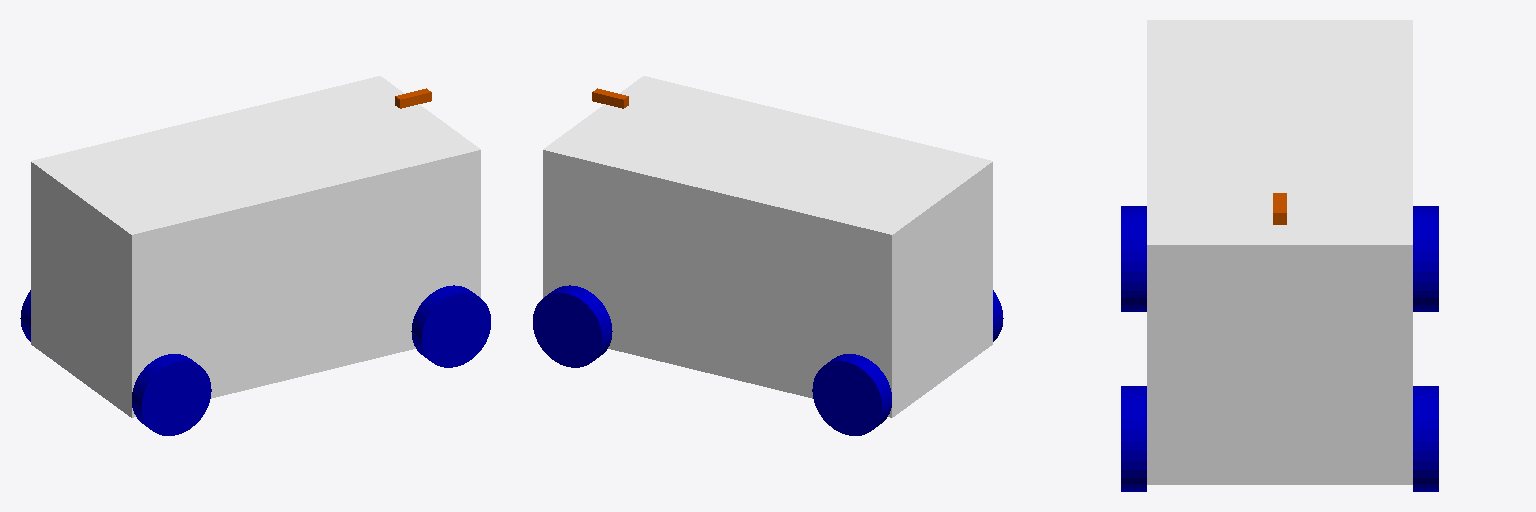
robot.urdf — my_robot:
<?xml version='1.0'?>
<robot name="my_robot">
  <gazebo>
    <static>false</static>
  </gazebo>

<!-- specifying materials and colors of model-->
  <material name="blue">
    <color rgba="0 0 0.8 1"/>
  </material>

  <material name="white">
    <color rgba="1 1 1 1"/>
  </material>

<!-- chassis description-->
	<link name='base_link'>
      <collision name='collision'>
        <geometry>
          <box size="1 .5 .5"/>
        </geometry>
        <origin xyz="0 0 .3" rpy="0 0 0"/>
      </collision>

      <visual name='visual'>
        <geometry>
          <box size="1 .5 .5"/>
        </geometry>
        <origin xyz="0 0 .3" rpy="0 0 0"/>
        <material name="white"/>
      </visual>
  </link>

    <!-- front right wheel description-->
  <link name="fr_wheel">
    
    <collision name="collision">
      <geometry>
        <cylinder radius=".1" length=".05"/>
      </geometry>
      <origin xyz="0 0 0" rpy="0 1.5707 1.5707"/>
    </collision>
    <visual name="visual">
      <geometry>
        <cylinder radius=".1" length=".05"/>
      </geometry>
      <origin xyz="0 0 0" rpy="0 1.5707 1.5707"/>
      <material name="blue"/>
    </visual>
    <!-- replace inertial values later-->
    <inertial>
      <mass value="3"/>
      <inertia ixx="0.4" ixy="0.0" ixz="0.0" iyy="0.4" iyz="0.0" izz="0.2"/>
    </inertial>
  </link>
  <joint type="continuous" name="fr_wheel_hinge">
    <origin xyz=".4 .275 .1" rpy="0 0 0"/>
    <child link="fr_wheel"/>
    <parent link="base_link"/>
    <axis xyz="0 1 0"/>
	</joint>

  <!-- descripton for the front left wheel-->
  <link name="fl_wheel">
    
    <collision name="collision">
      <geometry>
        <cylinder radius=".1" length=".05"/>
      </geometry>
      <origin xyz="0 0 0" rpy="0 1.5707 1.5707"/>
    </collision>
    <visual name="visual">
      <geometry>
        <cylinder radius=".1" length=".05"/>
      </geometry>
      <origin xyz="0 0 0" rpy="0 1.5707 1.5707"/>
      <material name="blue"/>
    </visual>
    <!-- replace inertial values later-->
    <inertial>
      <mass value="3"/>
      <inertia ixx="0.4" ixy="0.0" ixz="0.0" iyy="0.4" iyz="0.0" izz="0.2"/>
    </inertial>
  </link>

  <joint type="continuous" name="fl_wheel_hinge">
      <origin xyz="0.4 -.275 .1" rpy="0 0 0"/>
      <child link="fl_wheel"/>
      <parent link="base_link"/>
      <axis xyz="0 1 0"/>
	</joint>

  <!--back right wheel description-->
  <link name="br_wheel">
    <collision name="collision">
      <geometry>
        <cylinder radius=".1" length=".05"/>
      </geometry>
      <origin xyz="0 0 0" rpy="0 1.5707 1.5707"/>
    </collision>
    <visual name="visual">
      <geometry>
        <cylinder radius=".1" length=".05"/>
      </geometry>
      <origin xyz="0 0 0" rpy="0 1.5707 1.5707"/>
      <material name="blue"/>
    </visual>
    <!-- replace inertial values later-->
    <inertial>
      <mass value="3"/>
      <inertia ixx="0.4" ixy="0.0" ixz="0.0" iyy="0.4" iyz="0.0" izz="0.2"/>
    </inertial>
  </link>
  <joint type="continuous" name="br_wheel_hinge">
    <origin xyz="-0.4 .275 .1" rpy="0 0 0"/>
    <child link="br_wheel"/>
    <parent link="base_link"/>
    <axis xyz="0 1 0"/>
	</joint>

  <!-- back left wheel description-->
  <link name="bl_wheel">
    <collision name="collision">
      <geometry>
        <cylinder radius=".1" length=".05"/>
      </geometry>
      <origin xyz="0 0 0" rpy="0 1.5707 1.5707"/>
    </collision>
    <visual name="visual">
      <geometry>
        <cylinder radius=".1" length=".05"/>
      </geometry>
      <origin xyz="0 0 0" rpy="0 1.5707 1.5707"/>
      <material name="blue"/>
    </visual>
     <!-- replace inertial values later-->
    <inertial>
      <mass value="3"/>
      <inertia ixx="0.4" ixy="0.0" ixz="0.0" iyy="0.4" iyz="0.0" izz="0.2"/>
    </inertial>
  </link>
  <joint type="continuous" name="bl_wheel_hinge">
      <origin xyz="-.4 -.275 .1" rpy="0 0 0"/>
      <child link="bl_wheel"/>
      <parent link="base_link"/>
      <axis xyz="0 1 0"/>
	</joint>


  <!--specifying the depth camera-->
  <link name="depth_camera_link">
    <collision>
      <origin xyz="0 0 0" rpy="0 0 0"/>
      <geometry>
        <box size=".09 .025 .025"/>
      </geometry>
    </collision>

    <visual>
      <origin xyz="0 0 0" rpy="0 0 0"/>
      <geometry>
        <box size=".09 .025 .025"/>
      </geometry>
    </visual>

    <inertial>
      <mass value=".01" />
      <inertia ixx=".001" ixy="0" ixz="0" iyy=".001" iyz="0" izz=".001" />
    </inertial>
  </link>

  <joint name="dc_joint" type="fixed">
    <axis xyz="0 1 0"/>
    <origin xyz=".45 0 .6" rpy="0 0 0"/>
    <parent link="base_link"/>
    <child link="depth_camera_link"/>
  </joint>


        <!--depth camera plugin-->
  <gazebo reference="depth_camera_link">
    <sensor name="depth_camera" type="depth">
      <update_rate>20</update_rate>
      <camera>
        <horizontal_fov>1.047198</horizontal_fov>
        <image>
          <width>640</width>
          <height>480</height>
          <format>R8G8B8</format>
        </image>
        <clip>
          <near>0.05</near>
          <far>3</far>
        </clip>
      </camera>
      <plugin name="depth_controller" filename="libgazebo_ros_openni_kinect.so">
        <baseline>0.2</baseline>
        <alwaysOn>true</alwaysOn>
        <updateRate>1.0</updateRate>
        <cameraName>realsense_ir</cameraName>
        <imageTopicName>/realsense/depth/image_raw</imageTopicName>
        <cameraInfoTopicName>/realsense/depth/camera_info</cameraInfoTopicName>
        <depthImageTopicName>/realsense/depth/image_raw</depthImageTopicName>
        <depthImageInfoTopicName>/realsense/depth/camera_info</depthImageInfoTopicName>
        <pointCloudTopicName>/realsense/depth/points</pointCloudTopicName>
        <frameName>base</frameName>
        <pointCloudCutoff>0.1</pointCloudCutoff>
        <pointCloudCutoffMax>3.0</pointCloudCutoffMax>
        <distortionK1>0.00000001</distortionK1>
        <distortionK2>0.00000001</distortionK2>
        <distortionK3>0.00000001</distortionK3>
        <distortionT1>0.00000001</distortionT1>
        <distortionT2>0.00000001</distortionT2>
        <CxPrime>0</CxPrime>
        <Cx>0</Cx>
        <Cy>0</Cy>
        <focalLength>0</focalLength>
        <hackBaseline>0</hackBaseline>
      </plugin>
    </sensor>
  </gazebo>

</robot>

--- Facts derived from the render (not from the file) ---
3 views of the same robot in one strip: view 1: azimuth 30°, elevation 25°; view 2: azimuth 150°, elevation 25°; view 3: azimuth 270°, elevation 25° (orthographic).
Robot: my_robot — 6 links, 5 joints (4 continuous, 1 fixed); root link base_link; default pose: every joint at zero.
Visible links, largest first — view 1: base_link, bl_wheel, fl_wheel; view 2: base_link, br_wheel, fr_wheel; view 3: base_link, fr_wheel, fl_wheel, br_wheel, bl_wheel.
Boxes of the visible links, left/top/right/bottom form: base_link: left=31, top=76, right=480, bottom=417; bl_wheel: left=132, top=354, right=211, bottom=435; fl_wheel: left=411, top=285, right=490, bottom=367; base_link: left=543, top=76, right=992, bottom=417; br_wheel: left=812, top=354, right=891, bottom=435; fr_wheel: left=533, top=285, right=612, bottom=367; base_link: left=1147, top=20, right=1412, bottom=484; fr_wheel: left=1413, top=386, right=1438, bottom=491; fl_wheel: left=1121, top=386, right=1146, bottom=491; br_wheel: left=1413, top=206, right=1438, bottom=311; bl_wheel: left=1121, top=206, right=1146, bottom=311.
Size in the robot's own frame: 1 by 0.6 by 0.6125 metres.
Geometry: primitives only (box / cylinder / sphere), no mesh files.